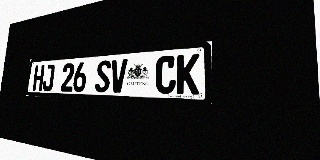2: (61, 63, 75, 92)
6: (72, 62, 88, 92)
C: (155, 55, 177, 94)
H: (32, 65, 45, 91)
J: (42, 64, 55, 91)
K: (176, 53, 200, 94)
S: (95, 60, 111, 92)
V: (110, 59, 127, 93)
